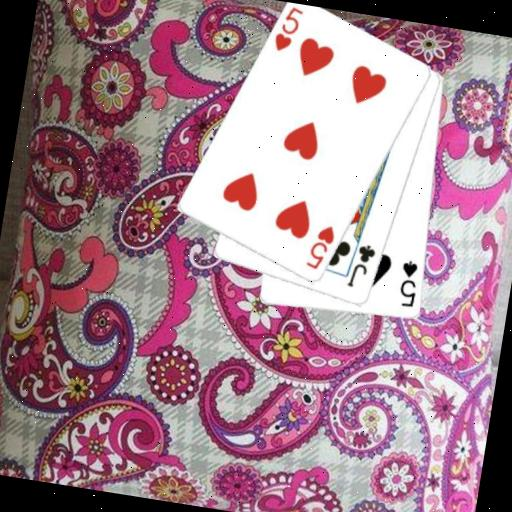5H: (302, 220, 338, 274), (269, 2, 305, 56)
5S: (394, 256, 423, 310)
JC: (344, 239, 379, 292)
